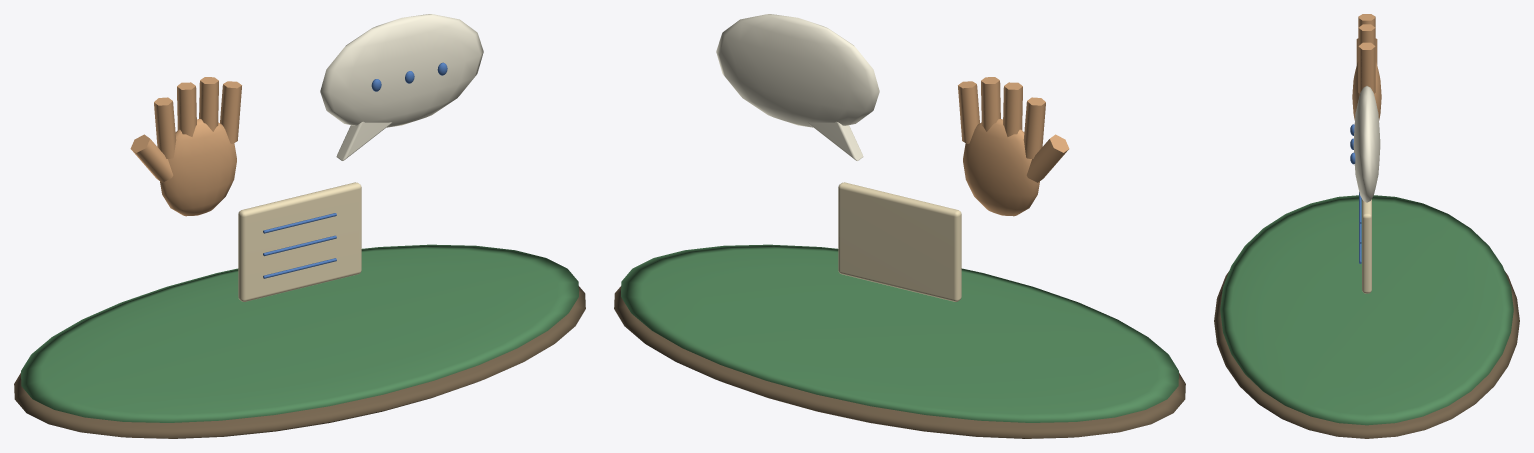
File: complete-second-extended-please-application.glb
3 views of the same model, side by side, from view 1: azimuth 30°, elevation 25°; view 2: azimuth 150°, elevation 25°; view 3: azimuth 270°, elevation 25° (orthographic). The views are drawn at different scales.
Parts seen in each view (by area): view 1: complete-second-extended-please-application_surface_01, complete-second-extended-please-application_surface_03, complete-second-extended-please-application_surface_05, complete-second-extended-please-application_surface_02, complete-second-extended-please-application_surface_00, complete-second-extended-please-application_surface_04; view 2: complete-second-extended-please-application_surface_01, complete-second-extended-please-application_surface_03, complete-second-extended-please-application_surface_05, complete-second-extended-please-application_surface_02, complete-second-extended-please-application_surface_00; view 3: complete-second-extended-please-application_surface_01, complete-second-extended-please-application_surface_00, complete-second-extended-please-application_surface_03, complete-second-extended-please-application_surface_02, complete-second-extended-please-application_surface_05, complete-second-extended-please-application_surface_04.
Part boxes in pixels (x1,y1,x2,y2): complete-second-extended-please-application_surface_01: (21,244,578,422); complete-second-extended-please-application_surface_03: (320,14,483,160); complete-second-extended-please-application_surface_05: (238,182,361,301); complete-second-extended-please-application_surface_02: (130,77,241,216); complete-second-extended-please-application_surface_00: (14,286,585,438); complete-second-extended-please-application_surface_04: (263,62,447,278); complete-second-extended-please-application_surface_01: (621,244,1178,422); complete-second-extended-please-application_surface_03: (716,14,879,160); complete-second-extended-please-application_surface_05: (838,182,961,301); complete-second-extended-please-application_surface_02: (958,77,1069,216); complete-second-extended-please-application_surface_00: (614,286,1185,438); complete-second-extended-please-application_surface_01: (1220,195,1513,425); complete-second-extended-please-application_surface_00: (1214,271,1519,438); complete-second-extended-please-application_surface_03: (1353,86,1380,202); complete-second-extended-please-application_surface_02: (1352,14,1381,120); complete-second-extended-please-application_surface_05: (1362,199,1371,293); complete-second-extended-please-application_surface_04: (1350,124,1361,263).
Bounding box in the file's own units: 4.56 × 2.55 × 2.5.
